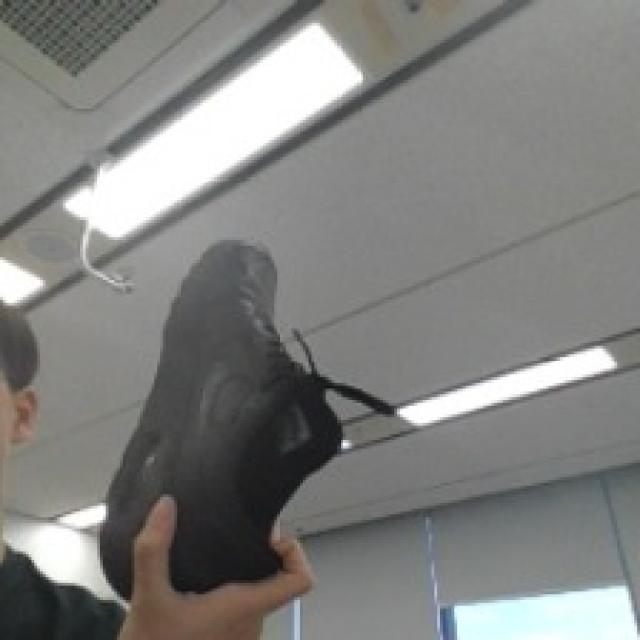shoe: (72, 203, 366, 597)
